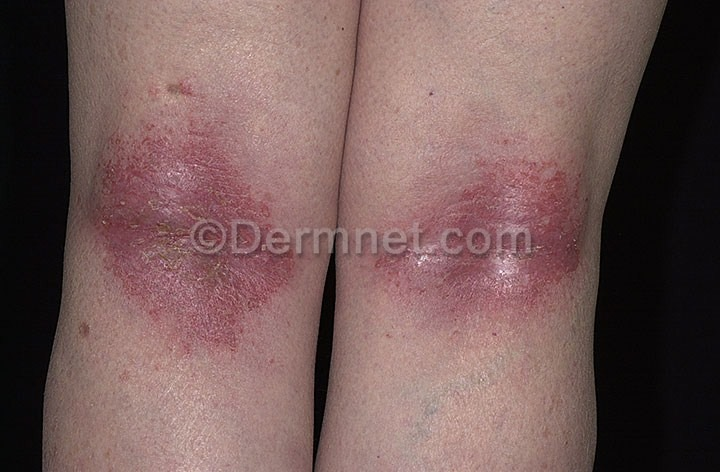Eczema: (75, 68, 309, 343), (368, 144, 595, 322)
